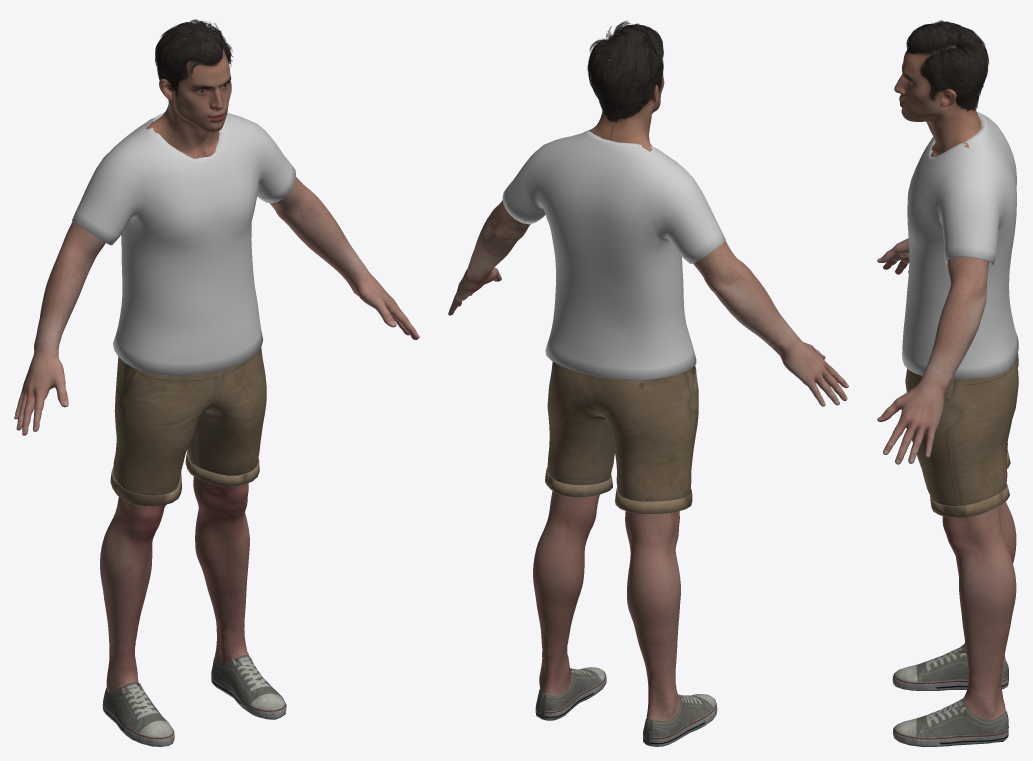
The model's file is joe__realistic_human_3d_model.glb.
3 renders of one model, left to right at view 1: azimuth 30°, elevation 25°; view 2: azimuth 150°, elevation 25°; view 3: azimuth 270°, elevation 25°, orthographic.
Parts seen in each view (by area): view 1: TShirt, Shorts, Legs, Arms, Face, Shoes, Hair; view 2: TShirt, Shorts, Legs, Arms, Hair, Shoes, Face; view 3: TShirt, Shorts, Legs, Arms, Shoes, Hair, Face.
Part boxes in pixels (x1,y1,x2,y2): TShirt: (72,112,295,375); Shorts: (110,347,266,506); Legs: (100,476,249,692); Arms: (14,177,419,435); Face: (146,32,231,158); Shoes: (102,655,286,746); Hair: (155,19,233,96); TShirt: (502,130,725,380); Shorts: (545,362,698,513); Legs: (533,491,680,721); Arms: (448,200,848,406); Hair: (587,20,663,122); Shoes: (535,667,717,746); Face: (589,31,664,151); TShirt: (902,112,1018,379); Shorts: (905,353,1018,517); Legs: (942,501,1016,720); Arms: (877,238,989,464); Shoes: (892,645,1008,746); Hair: (906,20,988,111); Face: (894,28,984,156).
Size of the model in its own units: 1.02 by 1.72 by 0.3198.
Materials: 12 (10 with a texture image).
